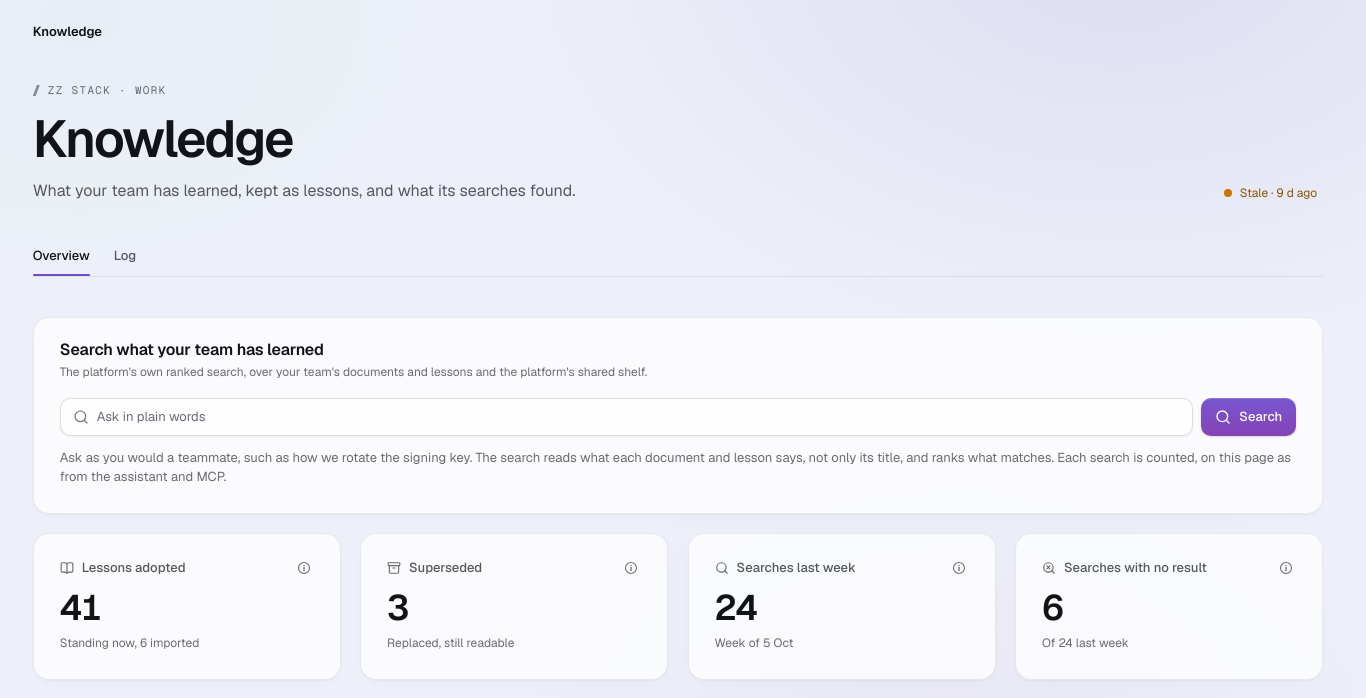
it: the Knowledge page leads with the search › says plainly when a search found nothing, with the search's own sentence
Type "zyzzyva" into the search field named "Question" at (638, 417), box [97,399,1180,435]
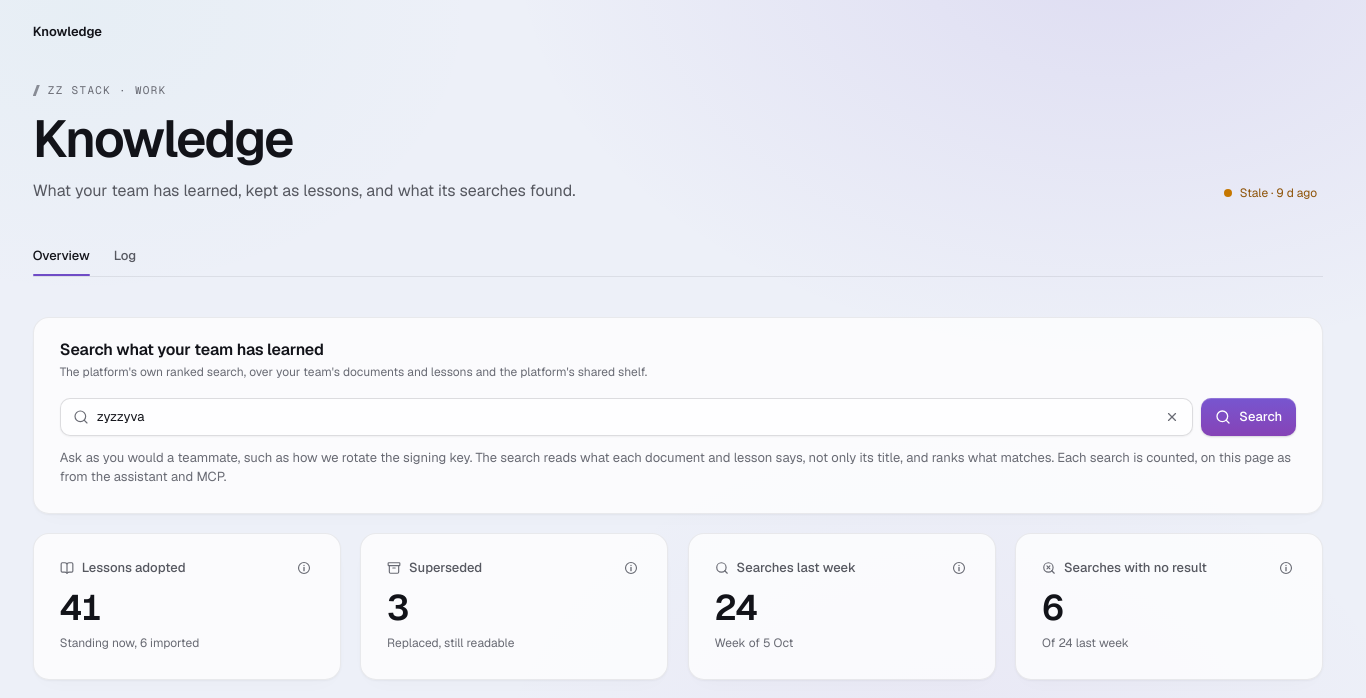
Submit the form, box [60,398,1296,436]
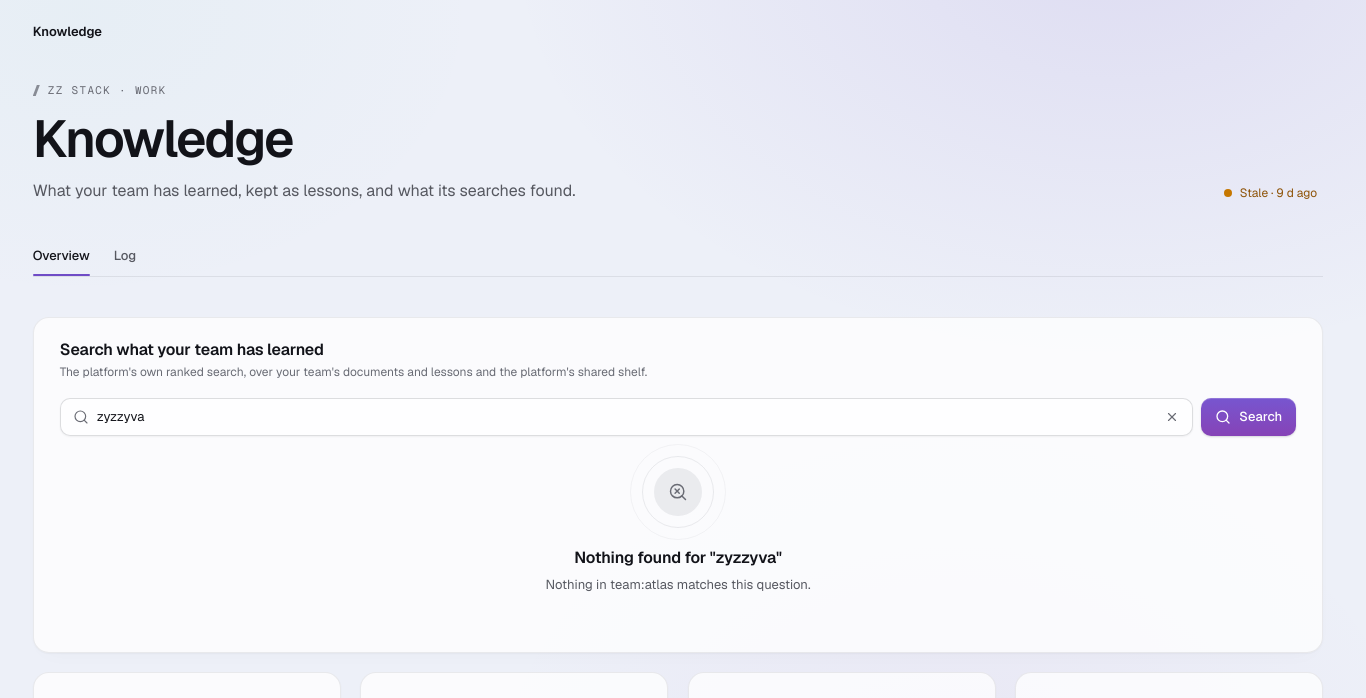
Now the text "Nothing found for \"zyzzyva\"" is shown, box [574,548,782,569]
Now the text "Nothing in team:atlas matches this question." is shown, box [546,575,811,594]
